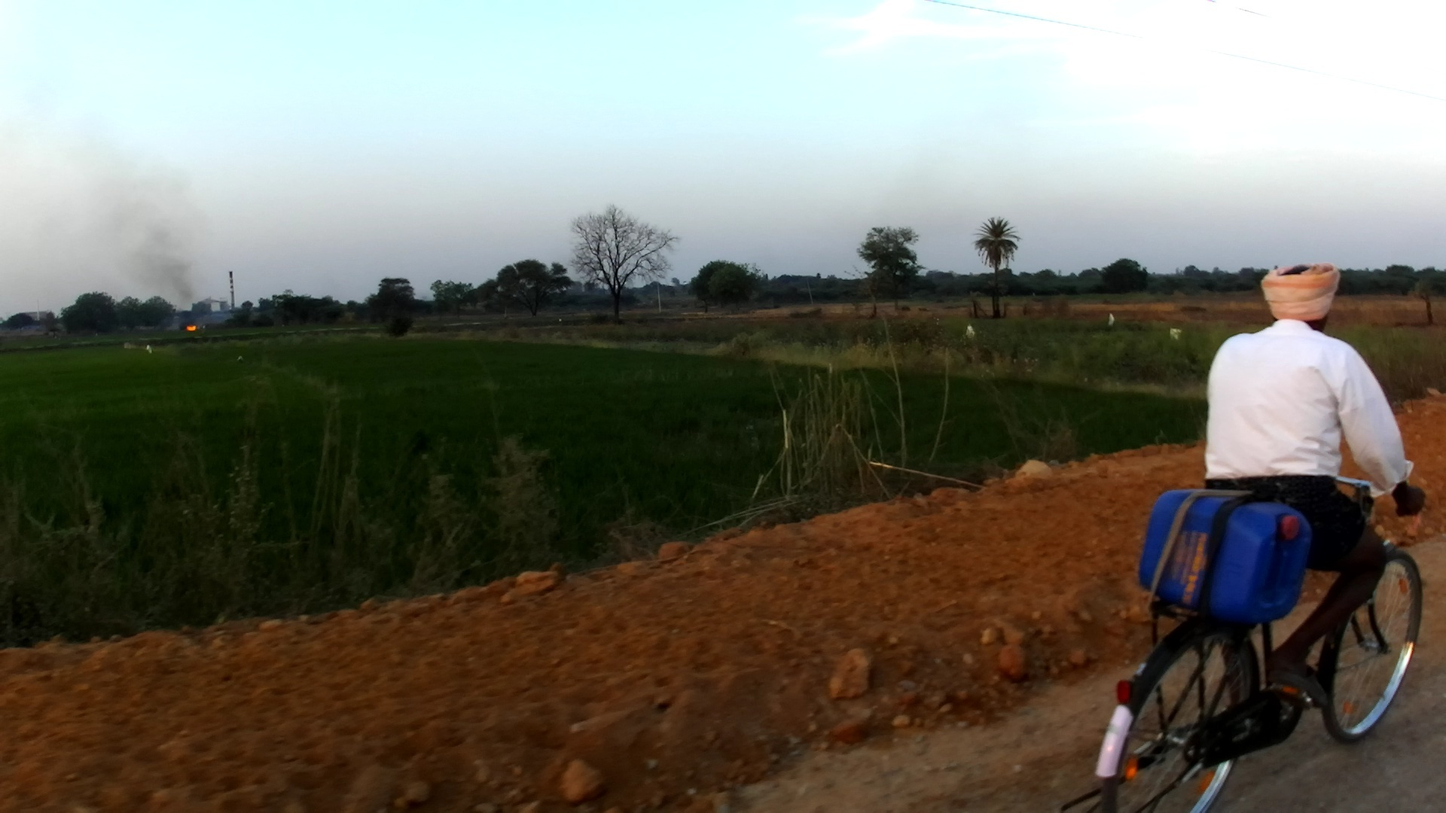bicycle: (1057, 477, 1424, 813)
rider: (1203, 264, 1426, 713)
